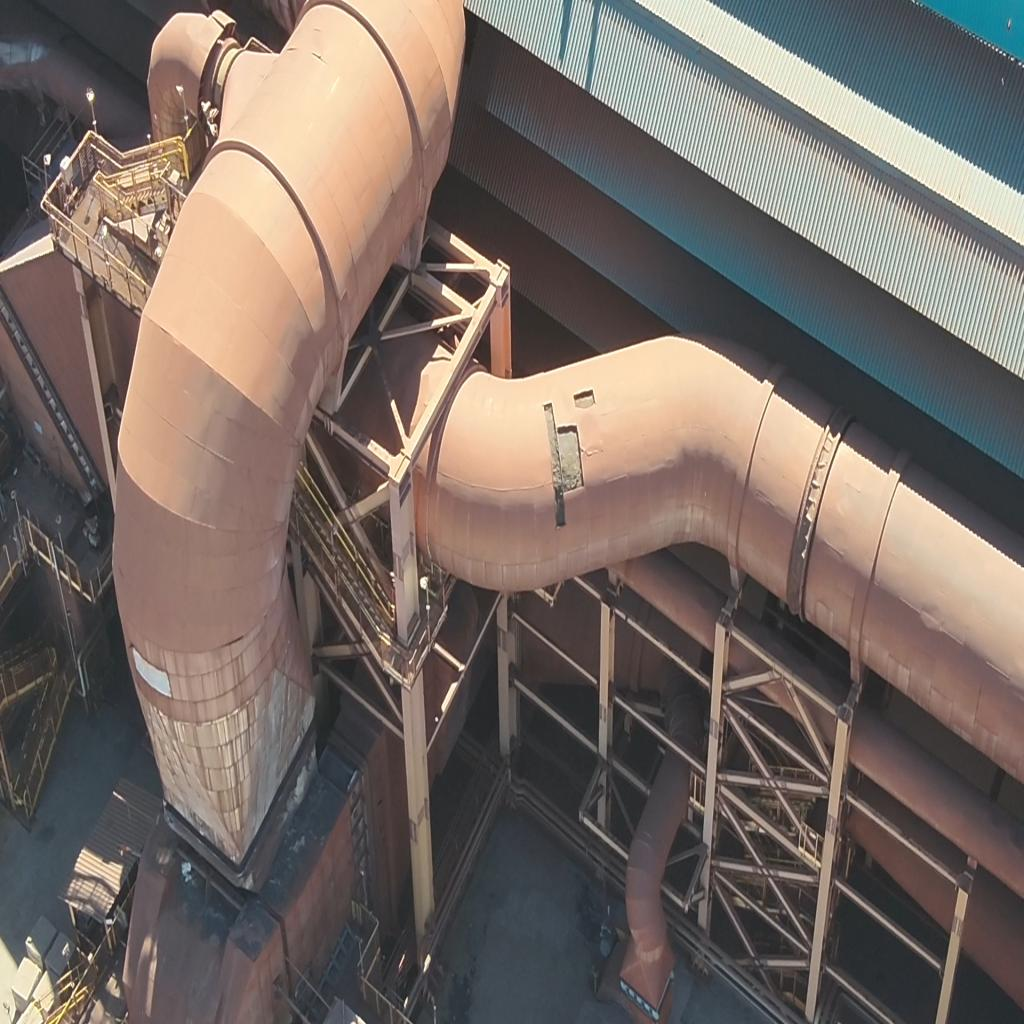Failures: (534, 403, 591, 520), (570, 379, 601, 417)
